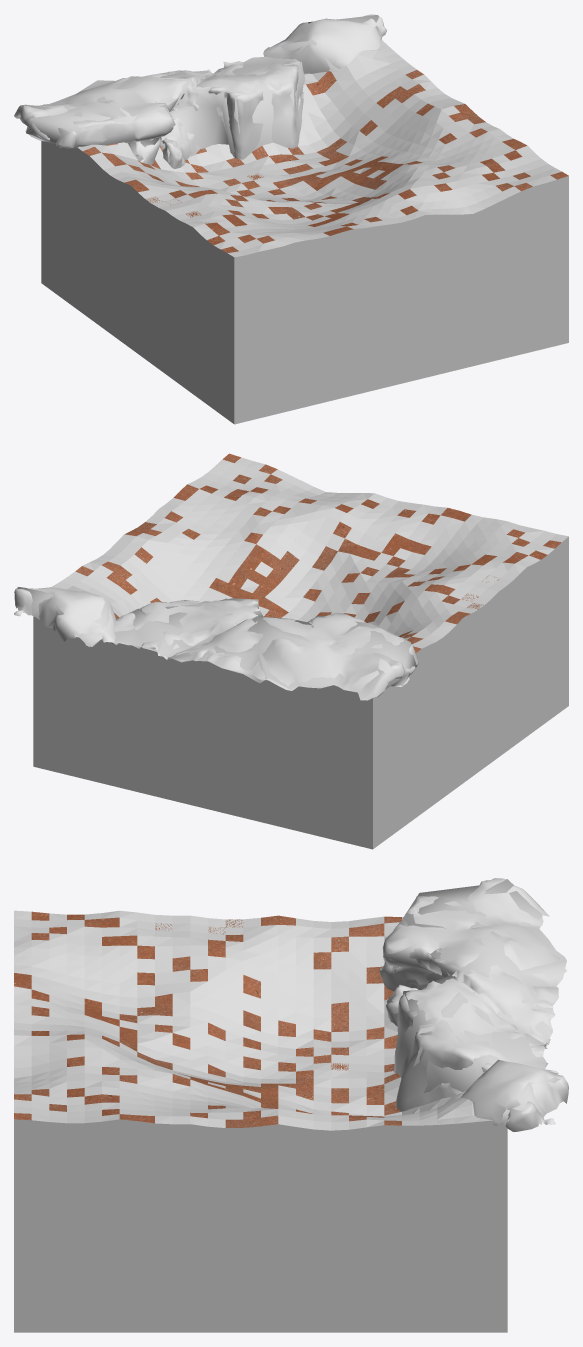
The model's file is Ground_hole_01.fbx.
3 views of the same model, one above another, from view 1: azimuth 30°, elevation 25°; view 2: azimuth 150°, elevation 25°; view 3: azimuth 270°, elevation 25° (orthographic). The views are drawn at different scales.
Visible parts, largest first — view 1: Ground_hole_01_M01_Collidor, Ground_hole_Rock_01_M03_LOD0, Ground_hole_01_M01_LOD0, Ground_hole_Rock_01_M03_Collidor, Ground_hole_Rock_02_M03_LOD0, Ground_hole_Rock_02_M03_Collidor; view 2: Ground_hole_01_M01_Collidor, Ground_hole_Rock_01_M03_LOD0, Ground_hole_01_M01_LOD0, Ground_hole_Rock_01_M03_Collidor, Ground_hole_Rock_02_M03_LOD0, Ground_hole_Rock_02_M03_Collidor; view 3: Ground_hole_01_M01_Collidor, Ground_hole_Rock_01_M03_LOD0, Ground_hole_01_M01_LOD0, Ground_hole_Rock_01_M03_Collidor, Ground_hole_Rock_02_M03_LOD0, Ground_hole_Rock_02_M03_Collidor.
Part boxes in pixels (x1,y1,x2,y2): Ground_hole_01_M01_Collidor: (41,39,568,424); Ground_hole_Rock_01_M03_LOD0: (14,58,303,168); Ground_hole_01_M01_LOD0: (83,70,568,252); Ground_hole_Rock_01_M03_Collidor: (19,56,304,165); Ground_hole_Rock_02_M03_LOD0: (263,14,386,73); Ground_hole_Rock_02_M03_Collidor: (271,15,382,72); Ground_hole_01_M01_Collidor: (33,457,568,849); Ground_hole_Rock_01_M03_LOD0: (114,598,418,700); Ground_hole_01_M01_LOD0: (75,453,561,653); Ground_hole_Rock_01_M03_Collidor: (114,598,416,700); Ground_hole_Rock_02_M03_LOD0: (14,587,118,646); Ground_hole_Rock_02_M03_Collidor: (17,587,115,646); Ground_hole_01_M01_Collidor: (14,910,507,1332); Ground_hole_Rock_01_M03_LOD0: (379,878,566,1111); Ground_hole_01_M01_LOD0: (14,911,401,1127); Ground_hole_Rock_01_M03_Collidor: (381,879,566,1094); Ground_hole_Rock_02_M03_LOD0: (461,1061,568,1131); Ground_hole_Rock_02_M03_Collidor: (492,1059,560,1126).
Size of what is drawn, in the model's own units: 2221 by 1066 by 2248.
